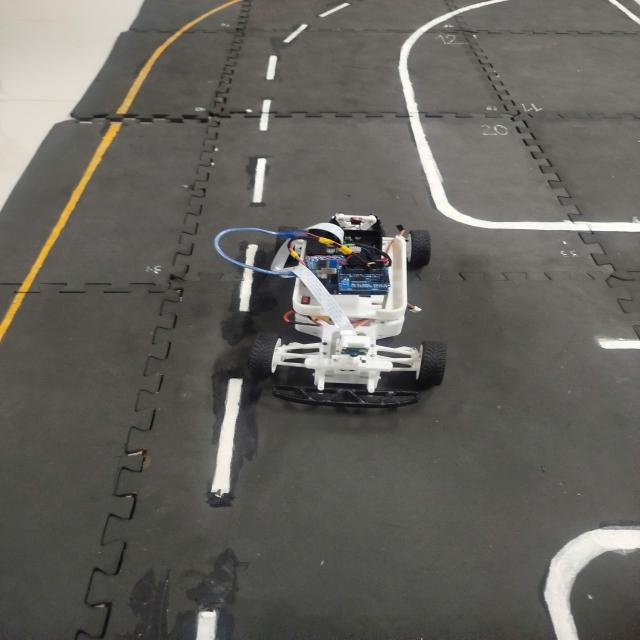SiCo-CAR: (214, 211, 448, 409)
